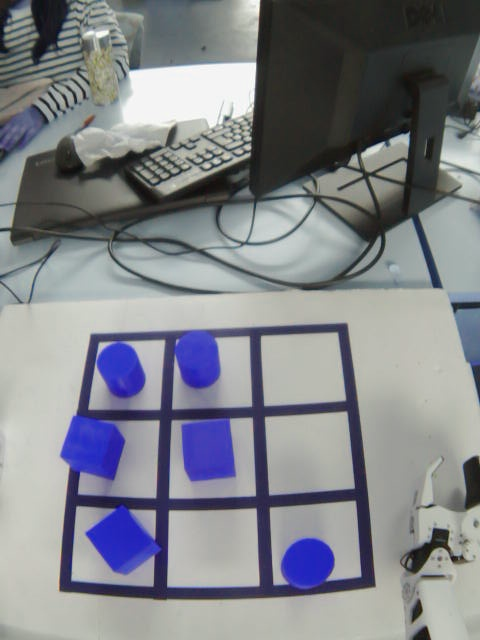cube: (79, 499, 167, 583), (53, 409, 131, 490), (174, 412, 248, 485)
cylinder: (86, 337, 157, 408), (273, 526, 340, 601), (168, 326, 233, 392)
empty: (160, 501, 268, 597), (259, 408, 362, 503), (252, 328, 354, 412)
